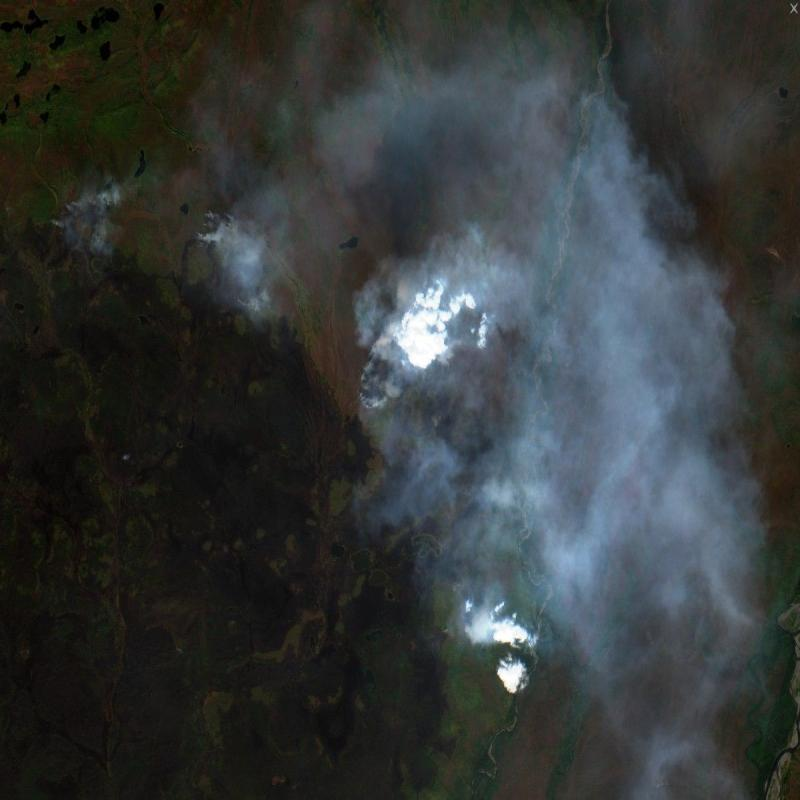fire: (354, 282, 459, 456), (40, 171, 134, 276), (178, 199, 266, 311), (438, 588, 535, 678), (461, 473, 512, 546)
